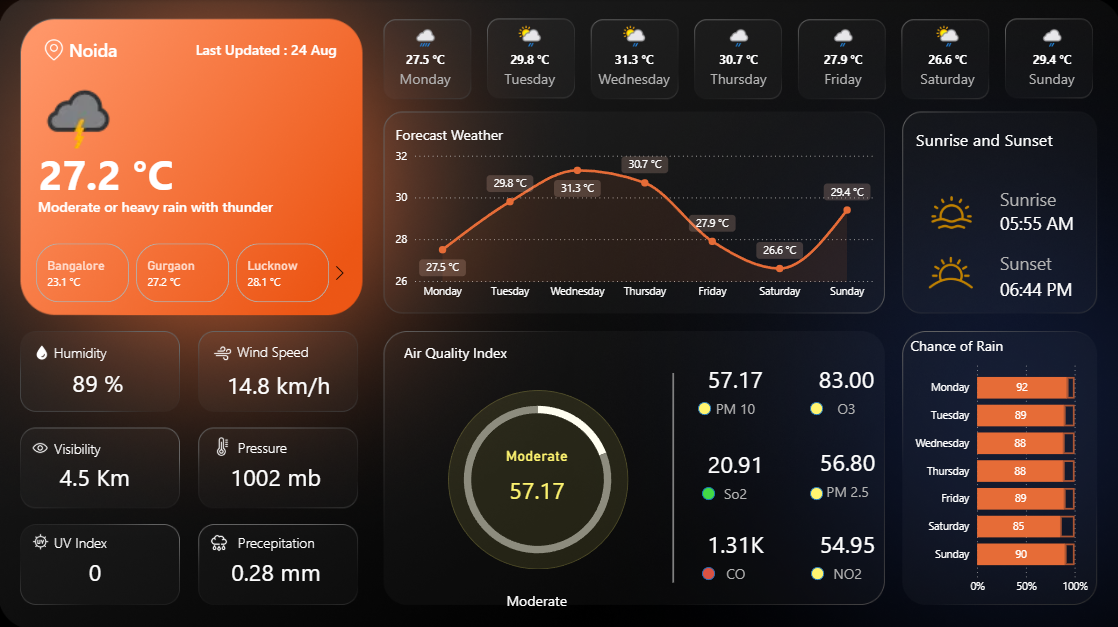

What the dashboard file says about the page in this screenshot:
{"tool":"powerbi","page":{"name":"Page 1","canvas":[1280,720],"ordinal":0},"visuals":[{"type":"advancedSlicerVisual","fields":{"Values":["Location.location.name"]},"box":[18.8,273.8,386.2,77.5],"z":0},{"type":"shape","box":[46.2,167.2,192.5,55],"z":1000},{"type":"shape","box":[45.9,216,325,38.8],"z":2000},{"type":"shape","box":[81.2,37.5,155,38.8],"z":3000},{"type":"shape","box":[221.2,37.5,165,38.8],"z":4000},{"type":"image","box":[46.2,40.4,33.8,35],"z":5000},{"type":"cardVisual","fields":{"Data":["Min(Current.current.condition.icon)"]},"box":[20,57.5,138.8,146.2],"z":6000},{"type":"image","box":[33.3,494.2,30,33.3],"z":7000},{"type":"image","box":[36.7,387.5,26.7,30],"z":8000},{"type":"image","box":[240,386,31,34],"z":9000},{"type":"image","box":[239.2,494.2,33.3,30.8],"z":10000},{"type":"image","box":[32.5,603.3,30.8,29.2],"z":11000},{"type":"image","box":[236,603,32,34],"z":12000},{"type":"shape","box":[63.3,390.8,67.5,23.3],"z":13000},{"type":"shape","box":[272.5,389.2,88.3,23.3],"z":14000},{"type":"shape","box":[273,607,91,23],"z":15000},{"type":"shape","box":[64,499,68,24],"z":16000},{"type":"shape","box":[63.3,606.7,67.5,23.3],"z":17000},{"type":"shape","box":[273,498,68,24],"z":18000},{"type":"card","fields":{"Values":["_Measures.humidity"]},"box":[50,420,127.5,36.2],"z":19000},{"type":"card","fields":{"Values":["Min(Current.current.uv)"]},"box":[46.2,636.2,127.5,36.2],"z":20000},{"type":"card","fields":{"Values":["_Measures.pressure"]},"box":[252.5,527.5,127.5,36.2],"z":21000},{"type":"card","fields":{"Values":["_Measures.Visibility"]},"box":[46.2,527.5,127.5,36.2],"z":22000},{"type":"card","fields":{"Values":["_Measures.Wind_speed"]},"box":[252.5,422.5,133.8,36.2],"z":23000},{"type":"card","fields":{"Values":["_Measures.precipitation"]},"box":[252.5,636.2,127.5,36.2],"z":24000},{"type":"advancedSlicerVisual","fields":{"Values":["Forecast_Day.Day_name"]},"box":[426.2,20,836.2,98.8],"z":25000},{"type":"lineChart","title":"Forecast Weather","fields":{"Y":["Sum(Forecast_Day.forecast.forecastday.day.avgtemp_c)"],"Category":["Forecast_Day.Day_name"]},"box":[447.6,143.6,555.4,207.8],"z":26000},{"type":"shape","box":[1045.3,143.6,170.6,32.1],"z":27000},{"type":"shape","box":[1141.5,236,97.5,37.2],"z":28000},{"type":"shape","box":[1141.5,311.7,97.5,35.9],"z":29000},{"type":"shape","box":[1141.6,287.6,124.4,26.9],"z":30000},{"type":"shape","box":[1141.6,214.5,115.4,25.7],"z":31000},{"type":"image","box":[1058.1,214.2,56.4,59],"z":32000},{"type":"image","box":[1046.6,271.9,77,78.2],"z":33000},{"type":"hundredPercentStackedBarChart","title":"Chance of Rain","fields":{"Y":["_Measures.chance of prec","_Measures.left_value"],"Category":["Forecast_Day.Day_name"]},"box":[1034.6,383.5,212.1,303.4],"z":34000},{"type":"card","fields":{"Values":["Sum(Current.current.air_quality.o3)"]},"box":[915,403.4,103.8,82.5],"z":35000},{"type":"shape","box":[462.4,390.9,119.6,23.4],"z":36000},{"type":"card","fields":{"Values":["Sum(Current.current.air_quality.co)"]},"box":[791.6,591.2,97.5,82.5],"z":37000},{"type":"card","fields":{"Values":["Sum(Current.current.air_quality.pm2_5)"]},"box":[916.3,498.4,103.8,82.5],"z":38000},{"type":"card","fields":{"Values":["Sum(Current.current.air_quality.so2)"]},"box":[787.9,500,103.8,82.5],"z":39000},{"type":"card","fields":{"Values":["Sum(Current.current.air_quality.pm10)"]},"box":[788.3,403.2,103.6,82.6],"z":40000},{"type":"card","fields":{"Values":["Sum(Current.current.air_quality.no2)"]},"box":[916.3,590.9,103.8,82.5],"z":41000},{"type":"shape","box":[797.5,458.8,15,15],"z":42000},{"type":"shape","box":[802.5,556.2,15,15],"z":43000},{"type":"shape","box":[925,556.2,15,15],"z":44000},{"type":"shape","box":[925,458.8,15,15],"z":45000},{"type":"shape","box":[802.5,647.5,15,15],"z":46000},{"type":"shape","box":[926.2,647.5,15,15],"z":47000},{"type":"donutChart","fields":{"Y":["Sum(Current.current.air_quality.pm10)","_Measures.left_value_PM10"]},"box":[505,437.5,220,220],"z":48000},{"type":"shape","box":[740,426.2,57.5,238.8],"z":49000},{"type":"shape","box":[512.2,445.6,205.6,204.4],"z":50000},{"type":"card","fields":{"Values":["Sum(Current.current.air_quality.pm10)"]},"box":[561.2,510,105,81.2],"z":51000},{"type":"shape","box":[475,673.8,277.5,22.5],"z":52000}]}

Visuals, with their boxes in screenshot pixels (x1, y1, x2, y2), scaled from the page's 1280x720 canvas onto the 1118x627 screenshot:
advancedSlicerVisual - Location.location.name: 16/238/354/306
shape: 40/146/208/193
shape: 40/188/324/222
shape: 71/33/206/66
shape: 193/33/337/66
image: 40/35/70/66
cardVisual - Min(Current.current.condition.icon): 17/50/139/177
image: 29/430/55/459
image: 32/337/55/364
image: 210/336/237/366
image: 209/430/238/457
image: 28/525/55/551
image: 206/525/234/555
shape: 55/340/114/361
shape: 238/339/315/359
shape: 238/529/318/549
shape: 56/435/115/455
shape: 55/528/114/549
shape: 238/434/298/455
card - _Measures.humidity: 44/366/155/397
card - Min(Current.current.uv): 40/554/152/586
card - _Measures.pressure: 221/459/332/491
card - _Measures.Visibility: 40/459/152/491
card - _Measures.Wind_speed: 221/368/337/399
card - _Measures.precipitation: 221/554/332/586
advancedSlicerVisual - Forecast_Day.Day_name: 372/17/1103/103
"Forecast Weather" lineChart: 391/125/876/306
shape: 913/125/1062/153
shape: 997/206/1082/238
shape: 997/271/1082/303
shape: 997/250/1106/274
shape: 997/187/1098/209
image: 924/187/973/238
image: 914/237/981/305
"Chance of Rain" hundredPercentStackedBarChart: 904/334/1089/598
card - Sum(Current.current.air_quality.o3): 799/351/890/423
shape: 404/340/508/361
card - Sum(Current.current.air_quality.co): 691/515/777/587
card - Sum(Current.current.air_quality.pm2_5): 800/434/891/506
card - Sum(Current.current.air_quality.so2): 688/435/779/507
card - Sum(Current.current.air_quality.pm10): 689/351/779/423
card - Sum(Current.current.air_quality.no2): 800/515/891/586
shape: 697/400/710/413
shape: 701/484/714/497
shape: 808/484/821/497
shape: 808/400/821/413
shape: 701/564/714/577
shape: 809/564/822/577
donutChart - Sum(Current.current.air_quality.pm10) x _Measures.left_value_PM10: 441/381/633/573
shape: 646/371/697/579
shape: 447/388/627/566
card - Sum(Current.current.air_quality.pm10): 490/444/582/515
shape: 415/587/657/606
